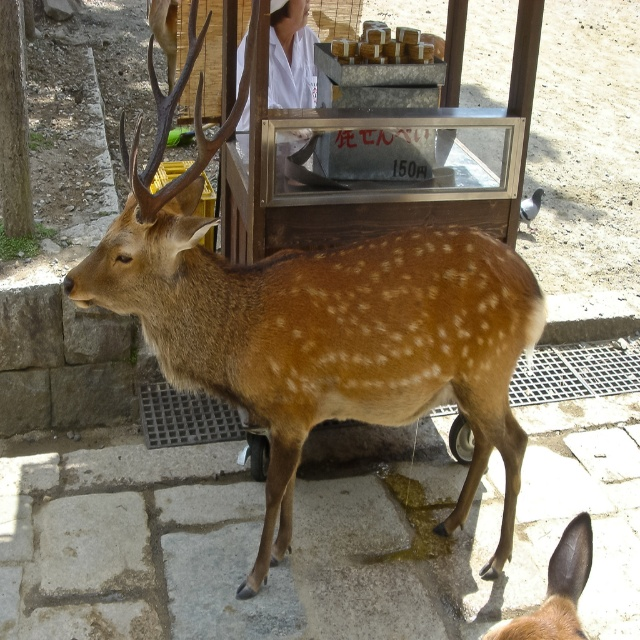Deer: (65, 0, 548, 597), (476, 512, 590, 639)
